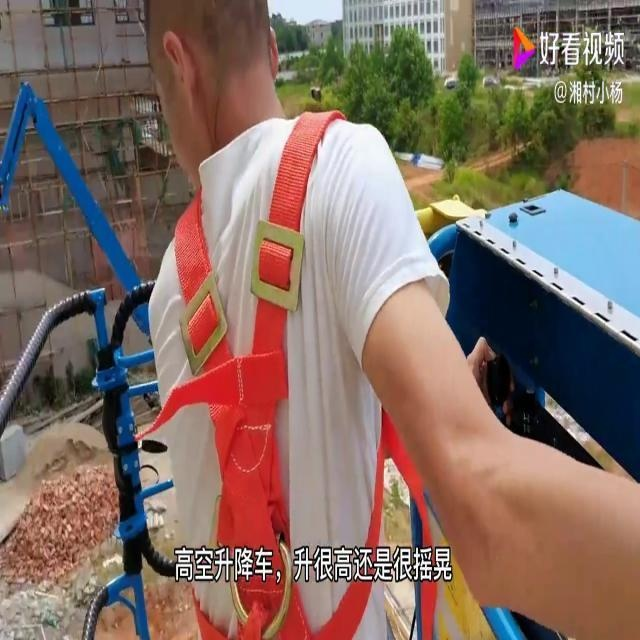Arnes_seguridad: (159, 92, 404, 639)
